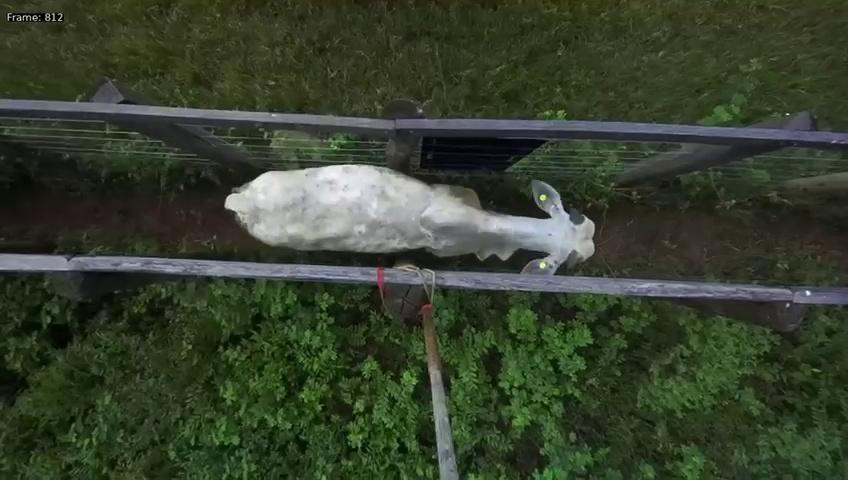cattle: (220, 151, 597, 274)
